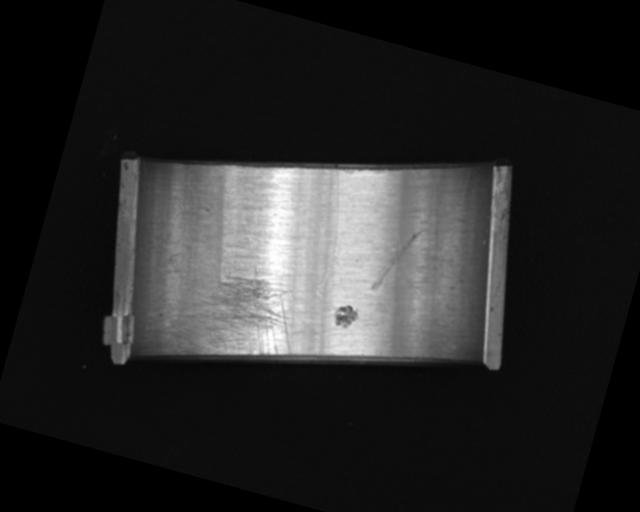bruise: (331, 302, 361, 330)
nick: (304, 167, 358, 295), (370, 220, 423, 299)
scratch: (170, 251, 311, 385)
